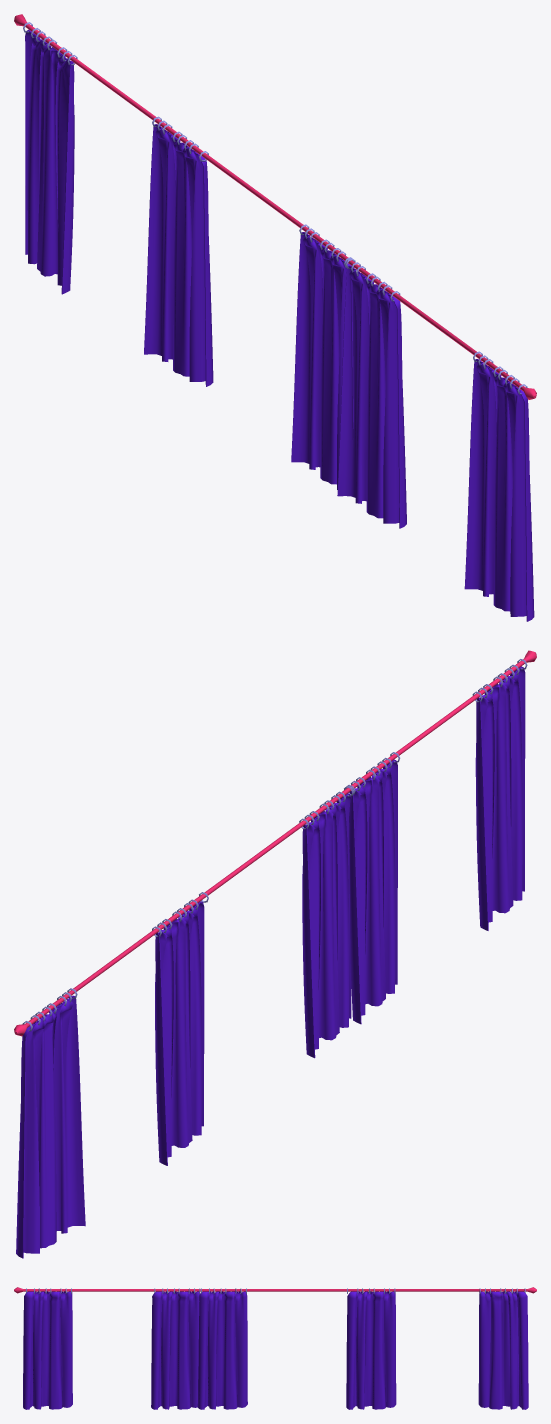
Rendered from long curtains.FBX.
The picture shows the model from 3 angles, top to bottom: view 1: azimuth 30°, elevation 25°; view 2: azimuth 150°, elevation 25°; view 3: azimuth 270°, elevation 25°; orthographic projection. The views are drawn at different scales.
Visible parts, largest first — view 1: curtain002; view 2: curtain002; view 3: curtain002.
Part boxes in pixels (x1,y1,x2,y2): curtain002: [14, 14, 536, 621]; curtain002: [14, 650, 536, 1258]; curtain002: [14, 1287, 536, 1409].
Size of the model in its own units: 0.3261 by 3.17 by 12.54.
